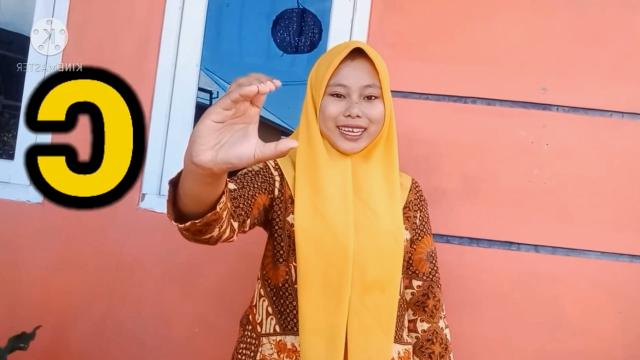C: (187, 70, 301, 178)
